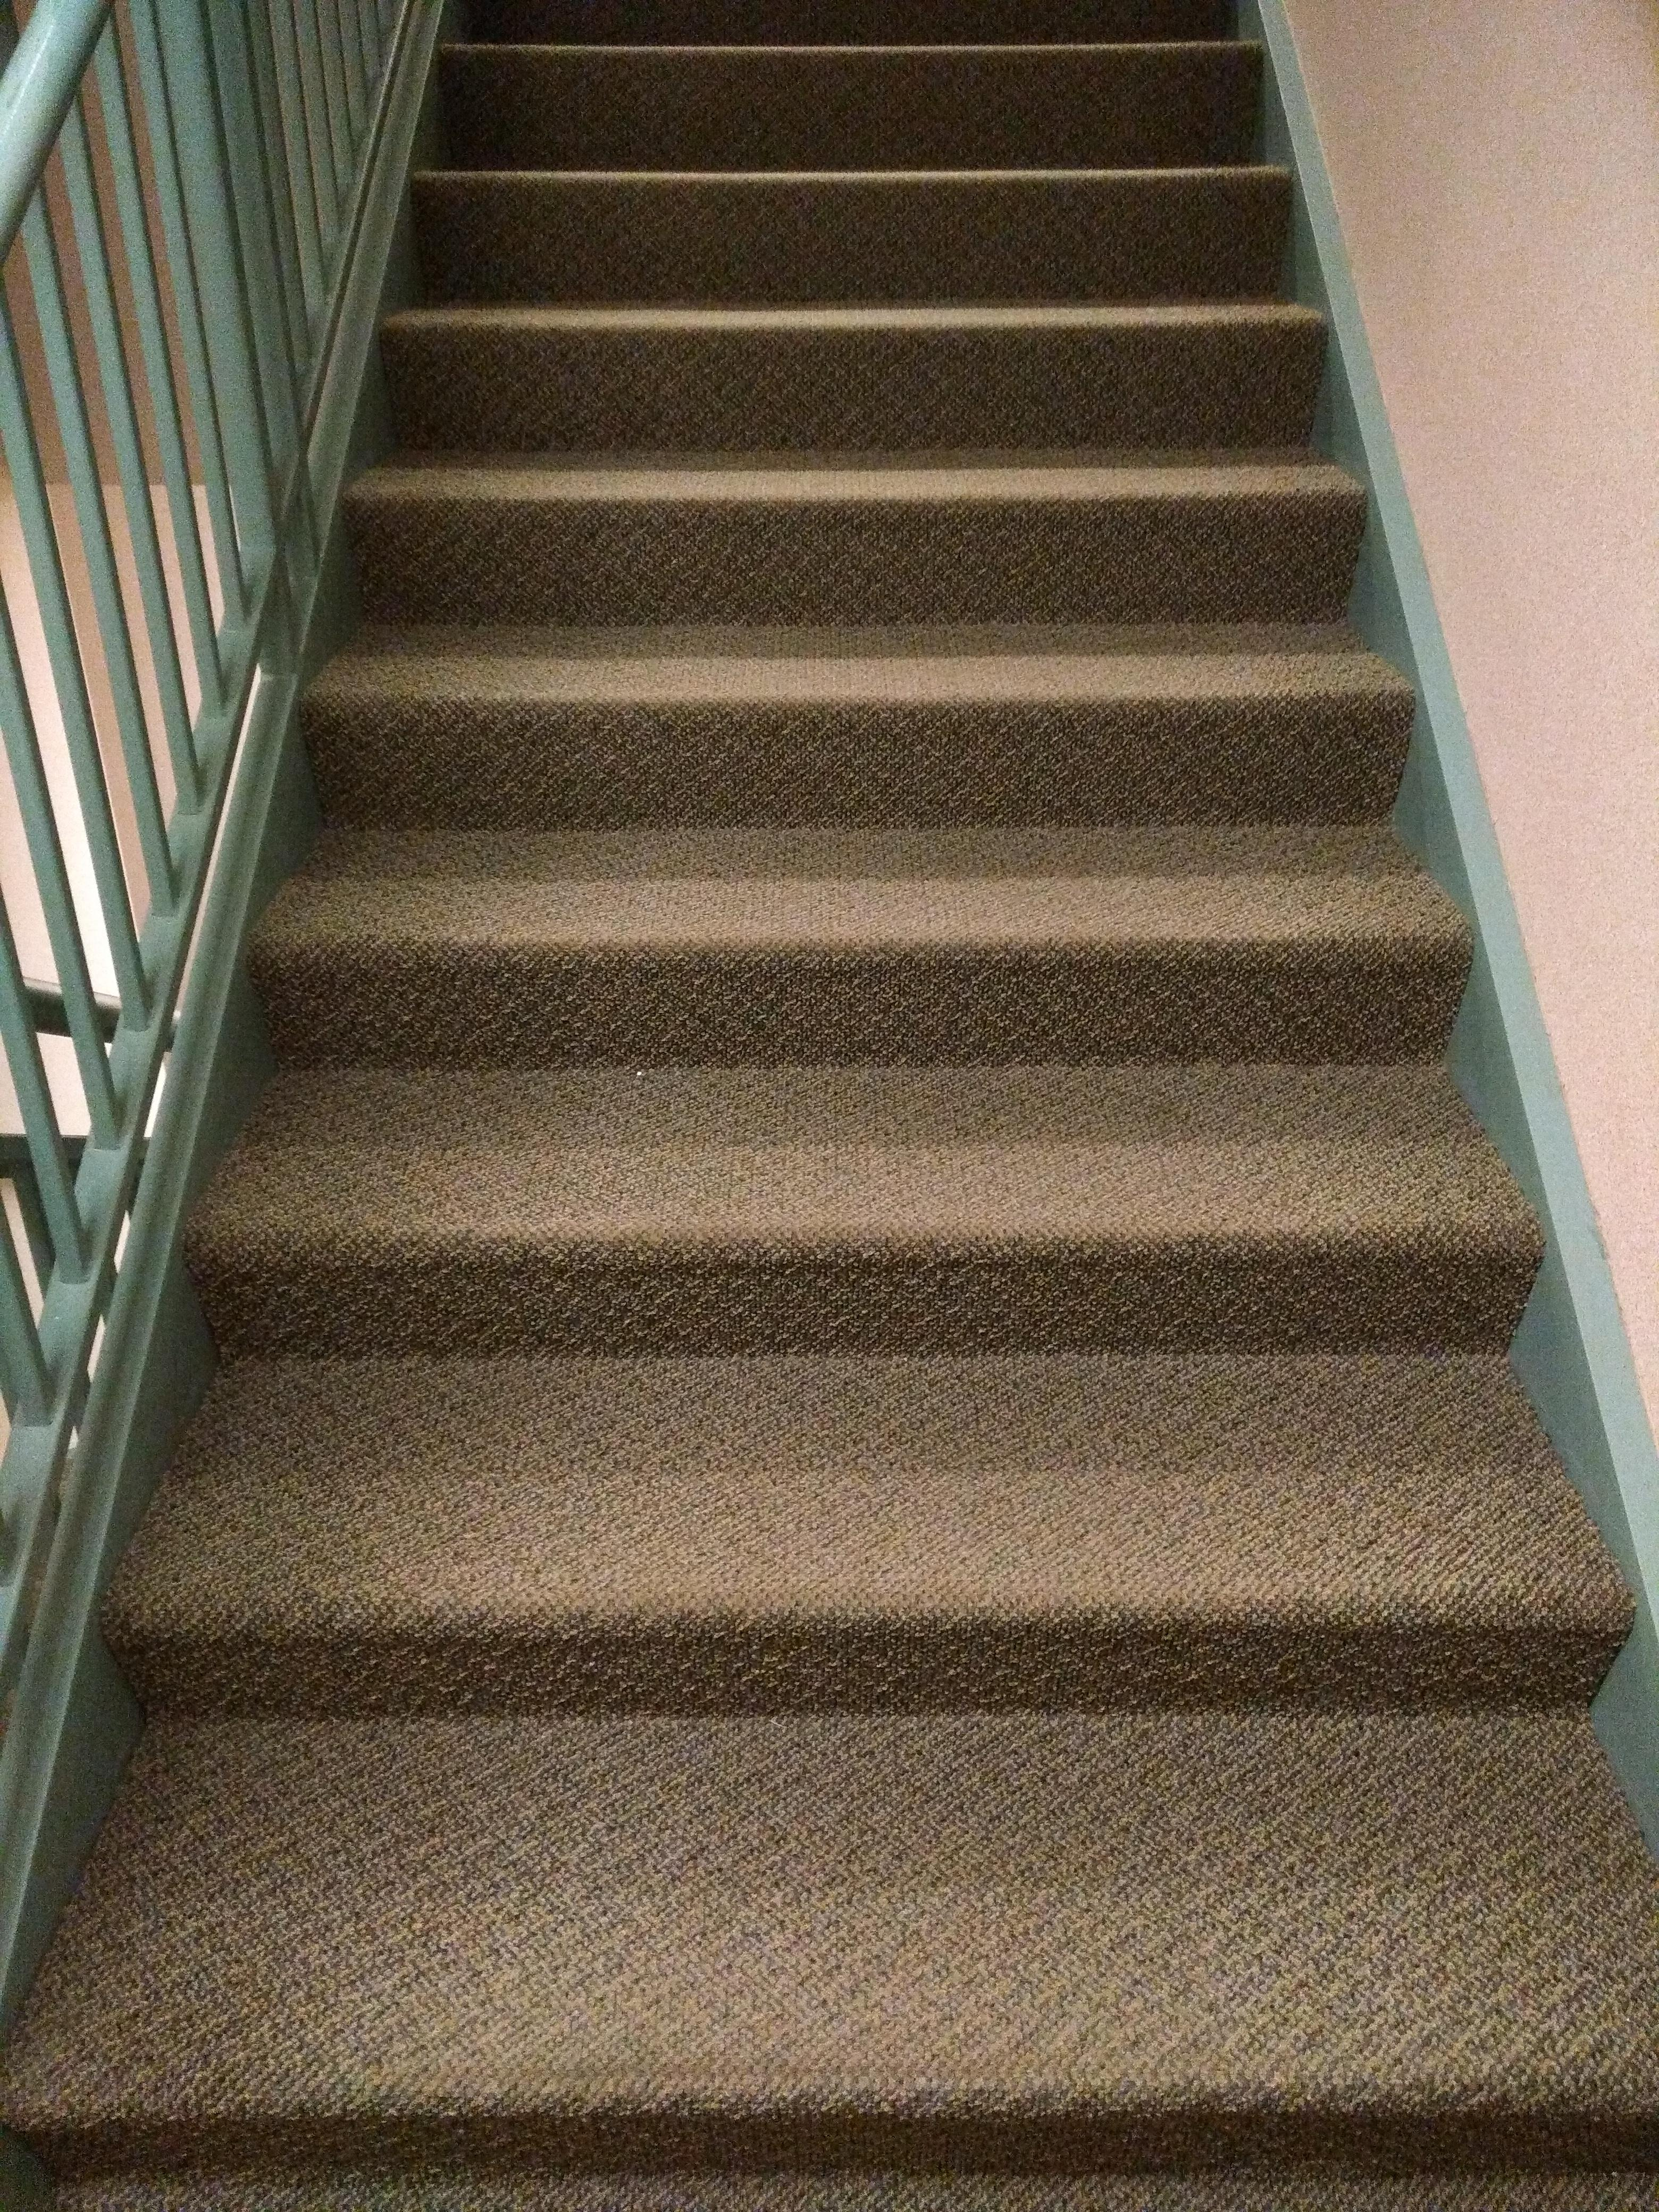stairs_up: (78, 24, 1650, 2163)
